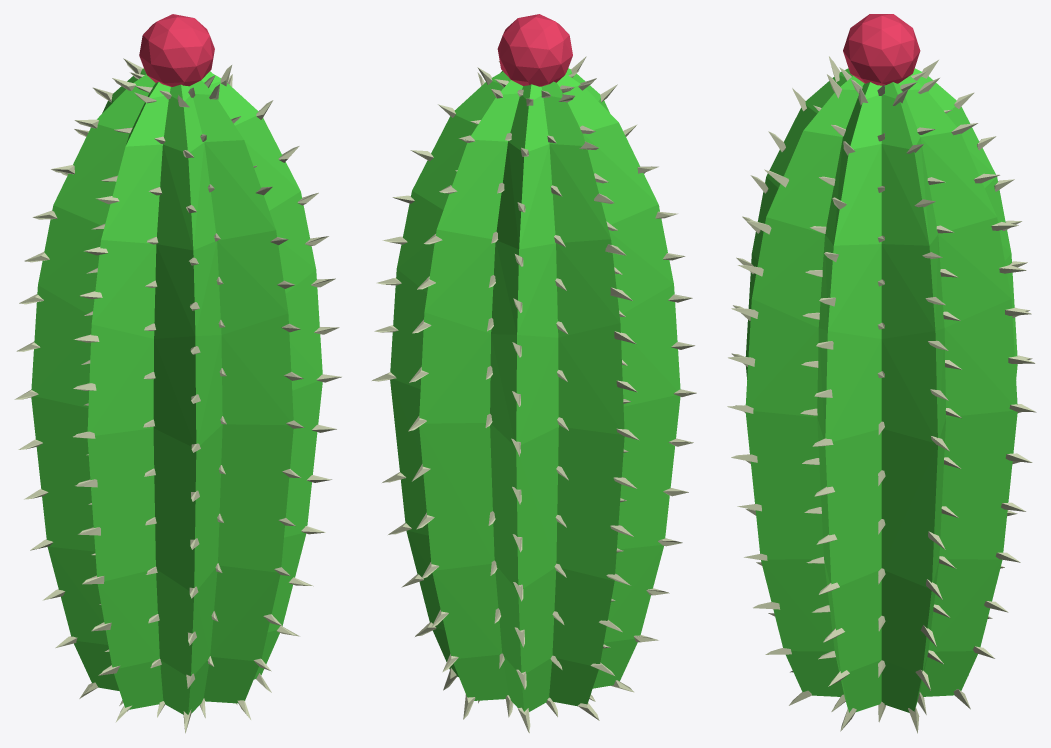
The model's file is cactus2.fbx.
3 renders of one model, left to right at view 1: azimuth 30°, elevation 25°; view 2: azimuth 150°, elevation 25°; view 3: azimuth 270°, elevation 25°, orthographic.
Visible parts, largest first — view 1: Icosphere; view 2: Icosphere; view 3: Icosphere.
Boxes of the visible parts, x1,y1,x2,y2 form: Icosphere: (14, 14, 341, 733); Icosphere: (372, 14, 696, 733); Icosphere: (727, 14, 1036, 733).
Size of the model in its own units: 118 by 290 by 120.
